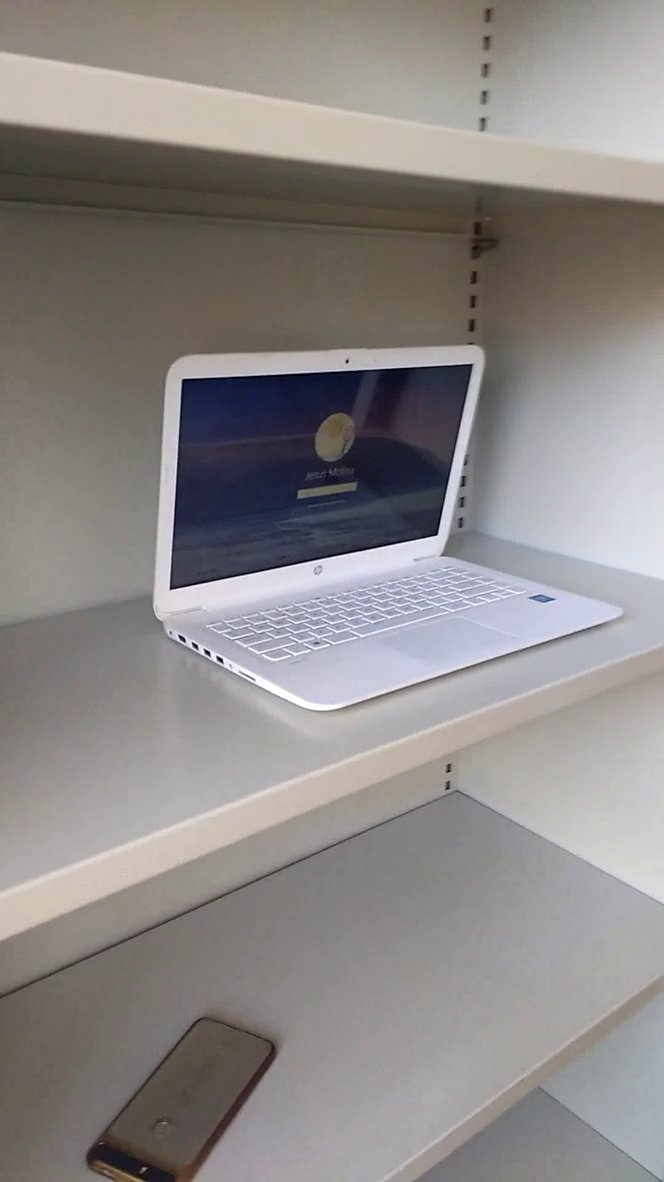laptop: (134, 328, 643, 719)
phone: (73, 1006, 302, 1182)
